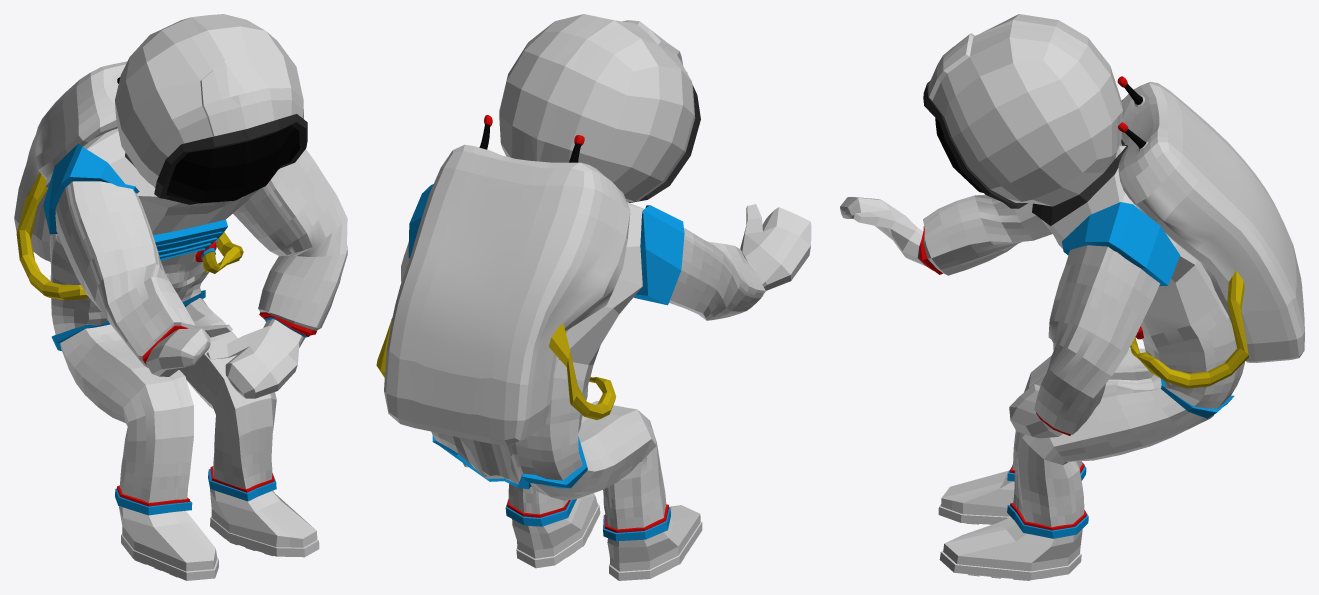
The model's file is astro.glb.
3 views of the same model, side by side, from view 1: azimuth 30°, elevation 25°; view 2: azimuth 150°, elevation 25°; view 3: azimuth 270°, elevation 25° (orthographic). The views are drawn at different scales.
Parts seen in each view (by area): view 1: Cube; view 2: Cube; view 3: Cube.
Boxes of the visible parts, bbox=[...] form: Cube: bbox=[14, 14, 347, 580]; Cube: bbox=[376, 14, 811, 580]; Cube: bbox=[840, 14, 1304, 580].
Size of the model in its own units: 2.92 by 5.04 by 4.07.
1 material, 1 textured.
